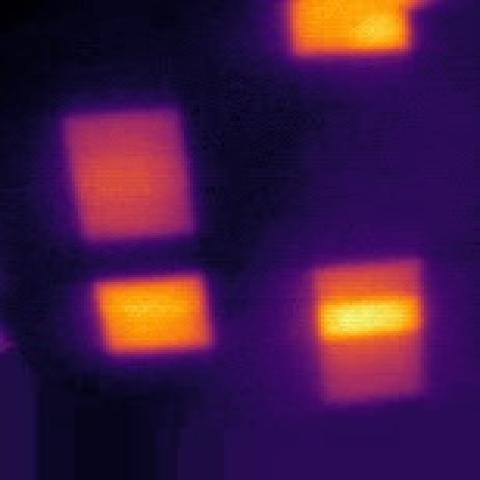fault: (55, 104, 204, 252), (302, 252, 428, 411), (87, 269, 220, 359), (278, 0, 437, 65)
